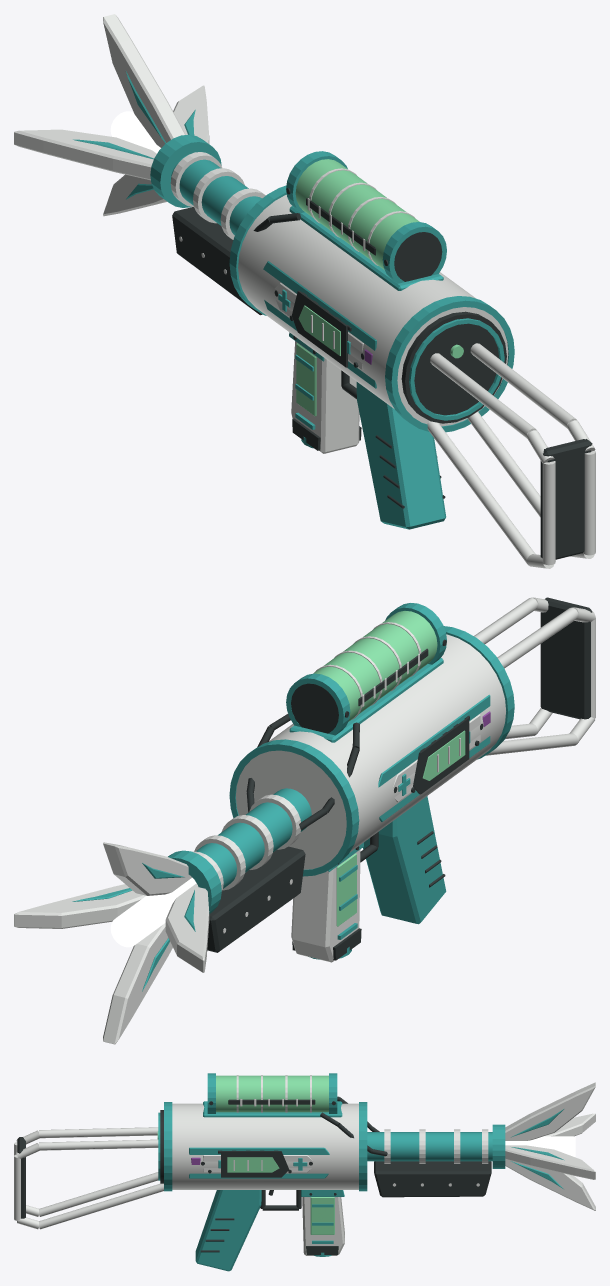
The model's file is medic_3.glb.
3 renders of one model, top to bottom at view 1: azimuth 30°, elevation 25°; view 2: azimuth 150°, elevation 25°; view 3: azimuth 270°, elevation 25°, orthographic. The views are drawn at different scales.
Visible parts, largest first — view 1: Weapon_medic_v1; view 2: Weapon_medic_v1; view 3: Weapon_medic_v1.
Part boxes in pixels (<box>): Weapon_medic_v1: <box>14,14,595,568</box>; Weapon_medic_v1: <box>14,597,595,1044</box>; Weapon_medic_v1: <box>14,1073,595,1271</box>.
Bounding box in the file's own units: 0.1982 × 0.3022 × 0.8351.
